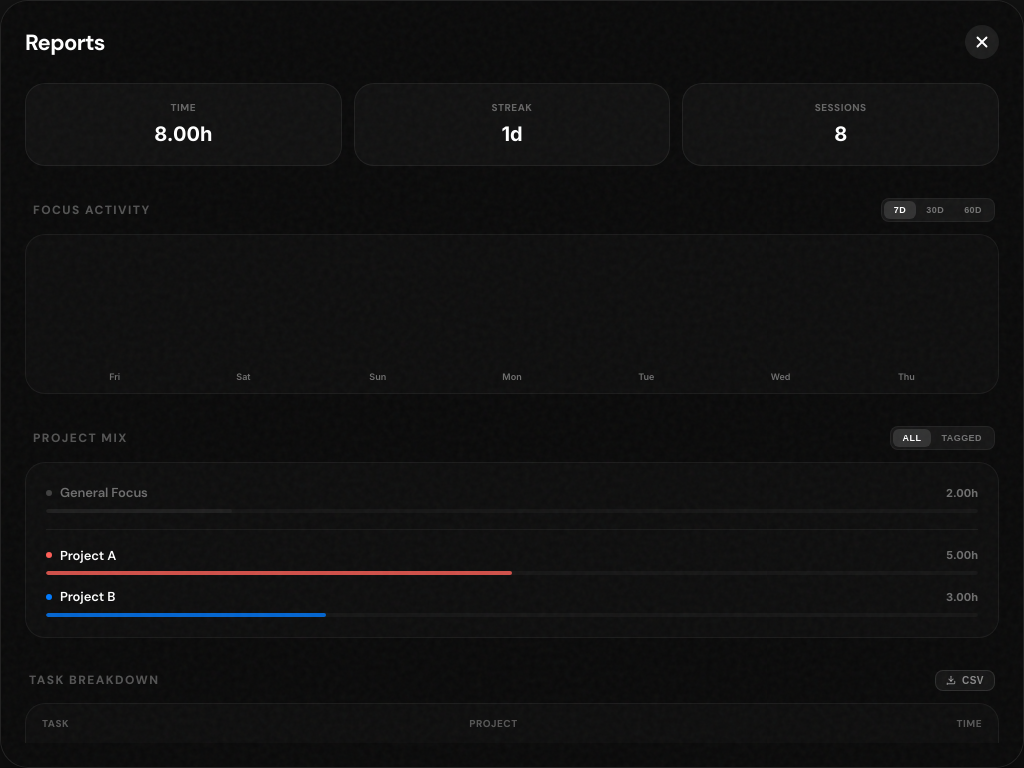
ReportsView and Helpers › ReportsView Component › should not display Untagged in Tagged filter
// Switch to Tagged filter
Click the button "Tagged" at x=962, y=438, box [932,429,992,447]
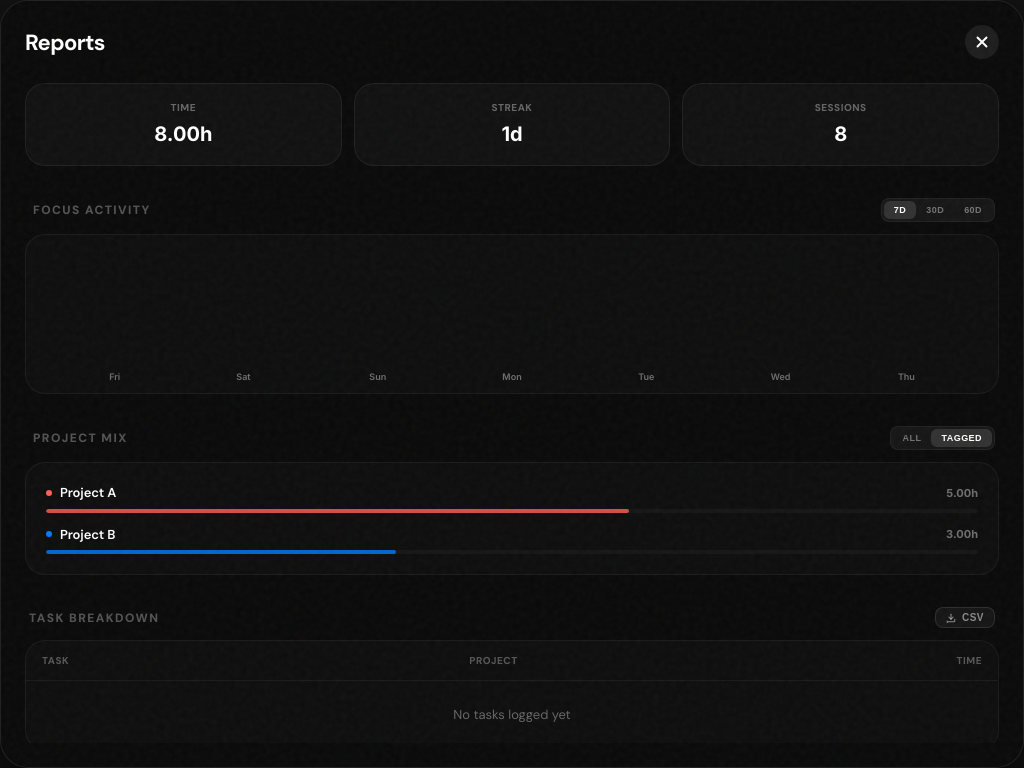
Result: the text "General Focus" is gone
Result: the text "Project A" is shown at [60,483,116,502]
Result: the text "Project B" is shown at [60,524,115,544]
